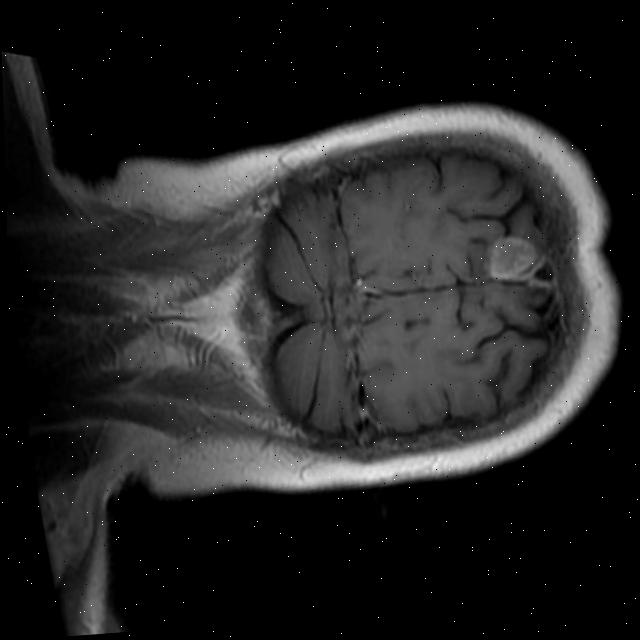Meningioma: (477, 228, 543, 289)
